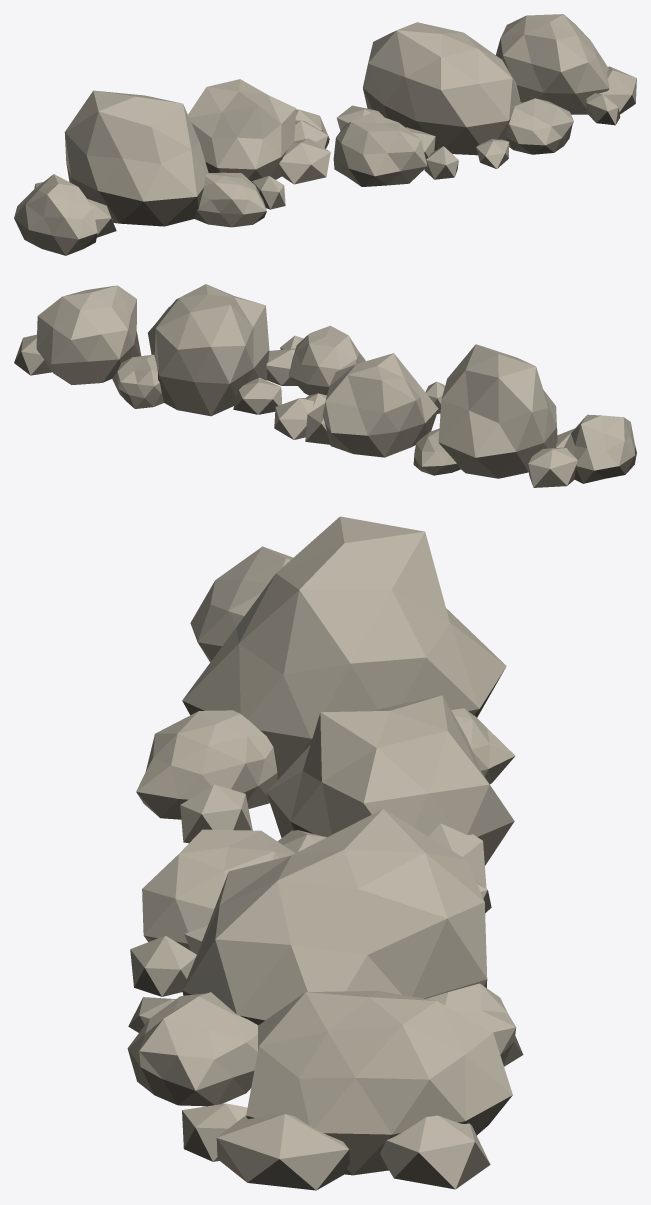
The model's file is stone_hazard_two_lane_A.glb.
3 views of the same model, one above another, from view 1: azimuth 30°, elevation 25°; view 2: azimuth 150°, elevation 25°; view 3: azimuth 270°, elevation 25° (orthographic). The views are drawn at different scales.
Parts seen in each view (by area): view 1: stone_hazard_two_lane_A; view 2: stone_hazard_two_lane_A; view 3: stone_hazard_two_lane_A.
Boxes of the visible parts, x1=… form: stone_hazard_two_lane_A: x1=14, y1=14, x2=636, y2=255; stone_hazard_two_lane_A: x1=14, y1=284, x2=636, y2=487; stone_hazard_two_lane_A: x1=127, y1=516, x2=523, y2=1190.
Bounding box in the file's own units: 4.86 × 0.8024 × 1.44.
